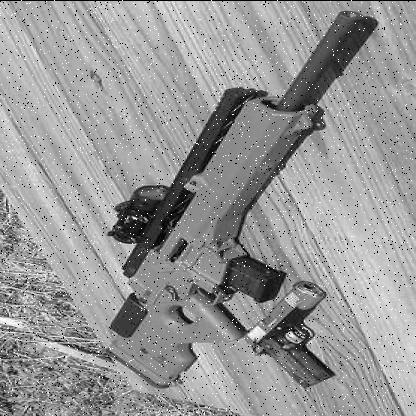rifle: (76, 7, 374, 387)
